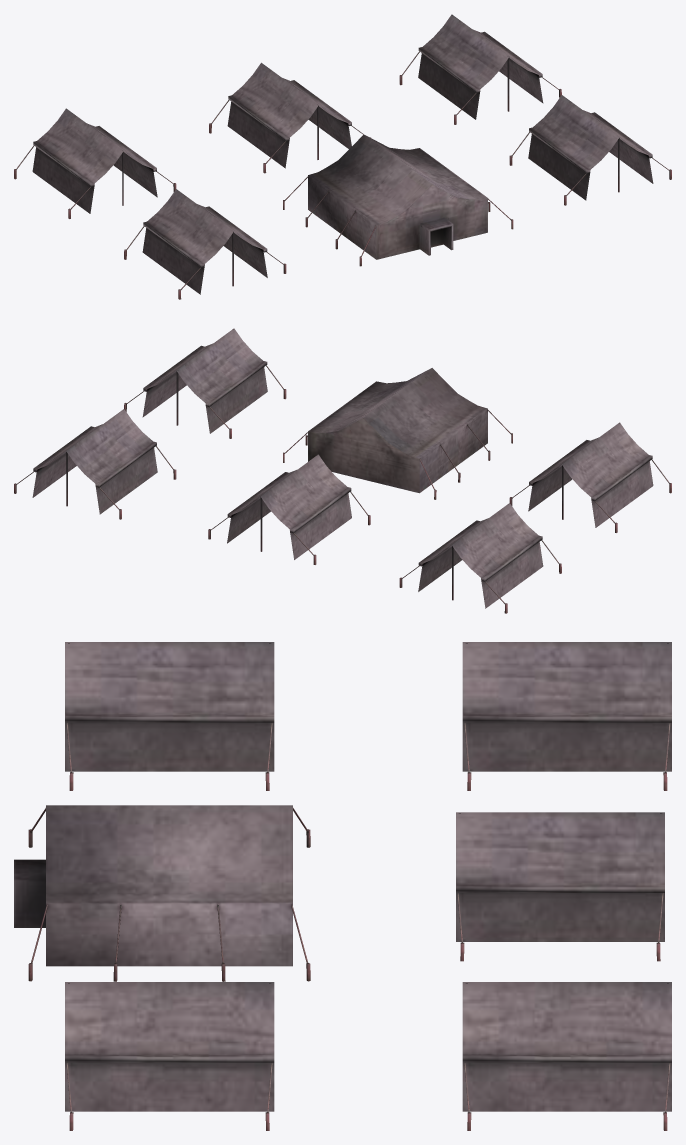
The model's file is BarracksII.glb.
3 renders of one model, top to bottom at view 1: azimuth 30°, elevation 25°; view 2: azimuth 150°, elevation 25°; view 3: azimuth 270°, elevation 25°, orthographic. The views are drawn at different scales.
Parts seen in each view (by area): view 1: 2, 2.002, 2.001, 2.003; view 2: 2, 2.001, 2.002, 2.003; view 3: 2.001, 2.002, 2, 2.003.
Boxes of the visible parts, x1=… form: 2: x1=283, y1=134, x2=513, y2=266; 2.002: x1=14, y1=14, x2=561, y2=218; 2.001: x1=124, y1=95, x2=671, y2=299; 2.003: x1=209, y1=62, x2=370, y2=173; 2: x1=283, y1=368, x2=512, y2=499; 2.001: x1=124, y1=328, x2=671, y2=532; 2.002: x1=14, y1=409, x2=561, y2=613; 2.003: x1=208, y1=454, x2=370, y2=564; 2.001: x1=65, y1=642, x2=274, y2=1130; 2.002: x1=462, y1=642, x2=671, y2=1130; 2: x1=14, y1=805, x2=310, y2=981; 2.003: x1=456, y1=812, x2=664, y2=961.
Size of the model in its own units: 29.73 by 3.57 by 19.04.
Materials: 1 (1 with a texture image).
